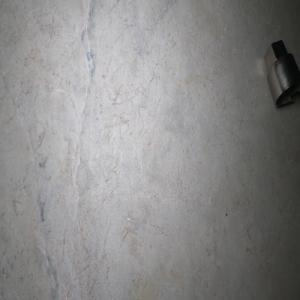MetalPart: (263, 39, 300, 107)
